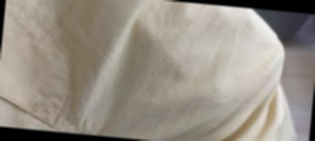oil: (162, 65, 216, 91)
